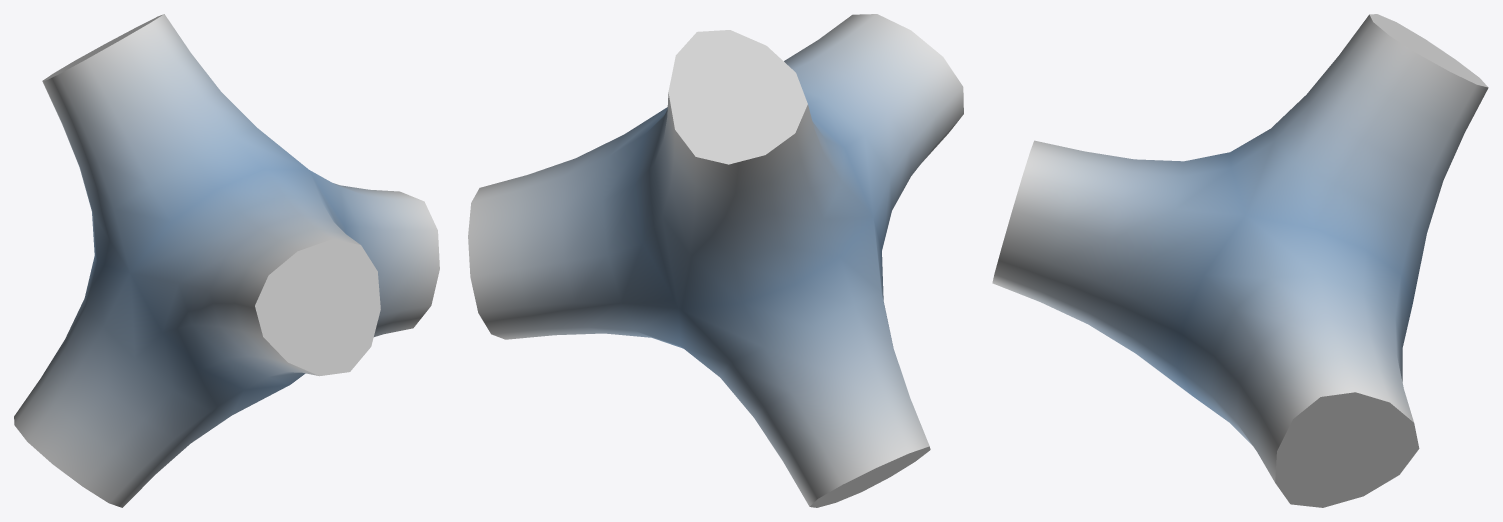
File: Tetrapod_single.fbx
3 renders of one model, left to right at view 1: azimuth 30°, elevation 25°; view 2: azimuth 150°, elevation 25°; view 3: azimuth 270°, elevation 25°, orthographic. The views are drawn at different scales.
Visible parts, largest first — view 1: Cube.017; view 2: Cube.017; view 3: Cube.017.
Boxes of the visible parts, x1,y1,x2,y2 form: Cube.017: (14, 14, 439, 507); Cube.017: (468, 14, 963, 507); Cube.017: (992, 14, 1488, 507).
Size of the model in its own units: 1039 by 1072 by 1018.
